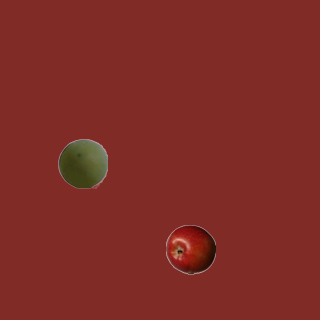Apple Braeburn: (165, 224, 215, 274)
Grape White 4: (57, 138, 107, 188)
